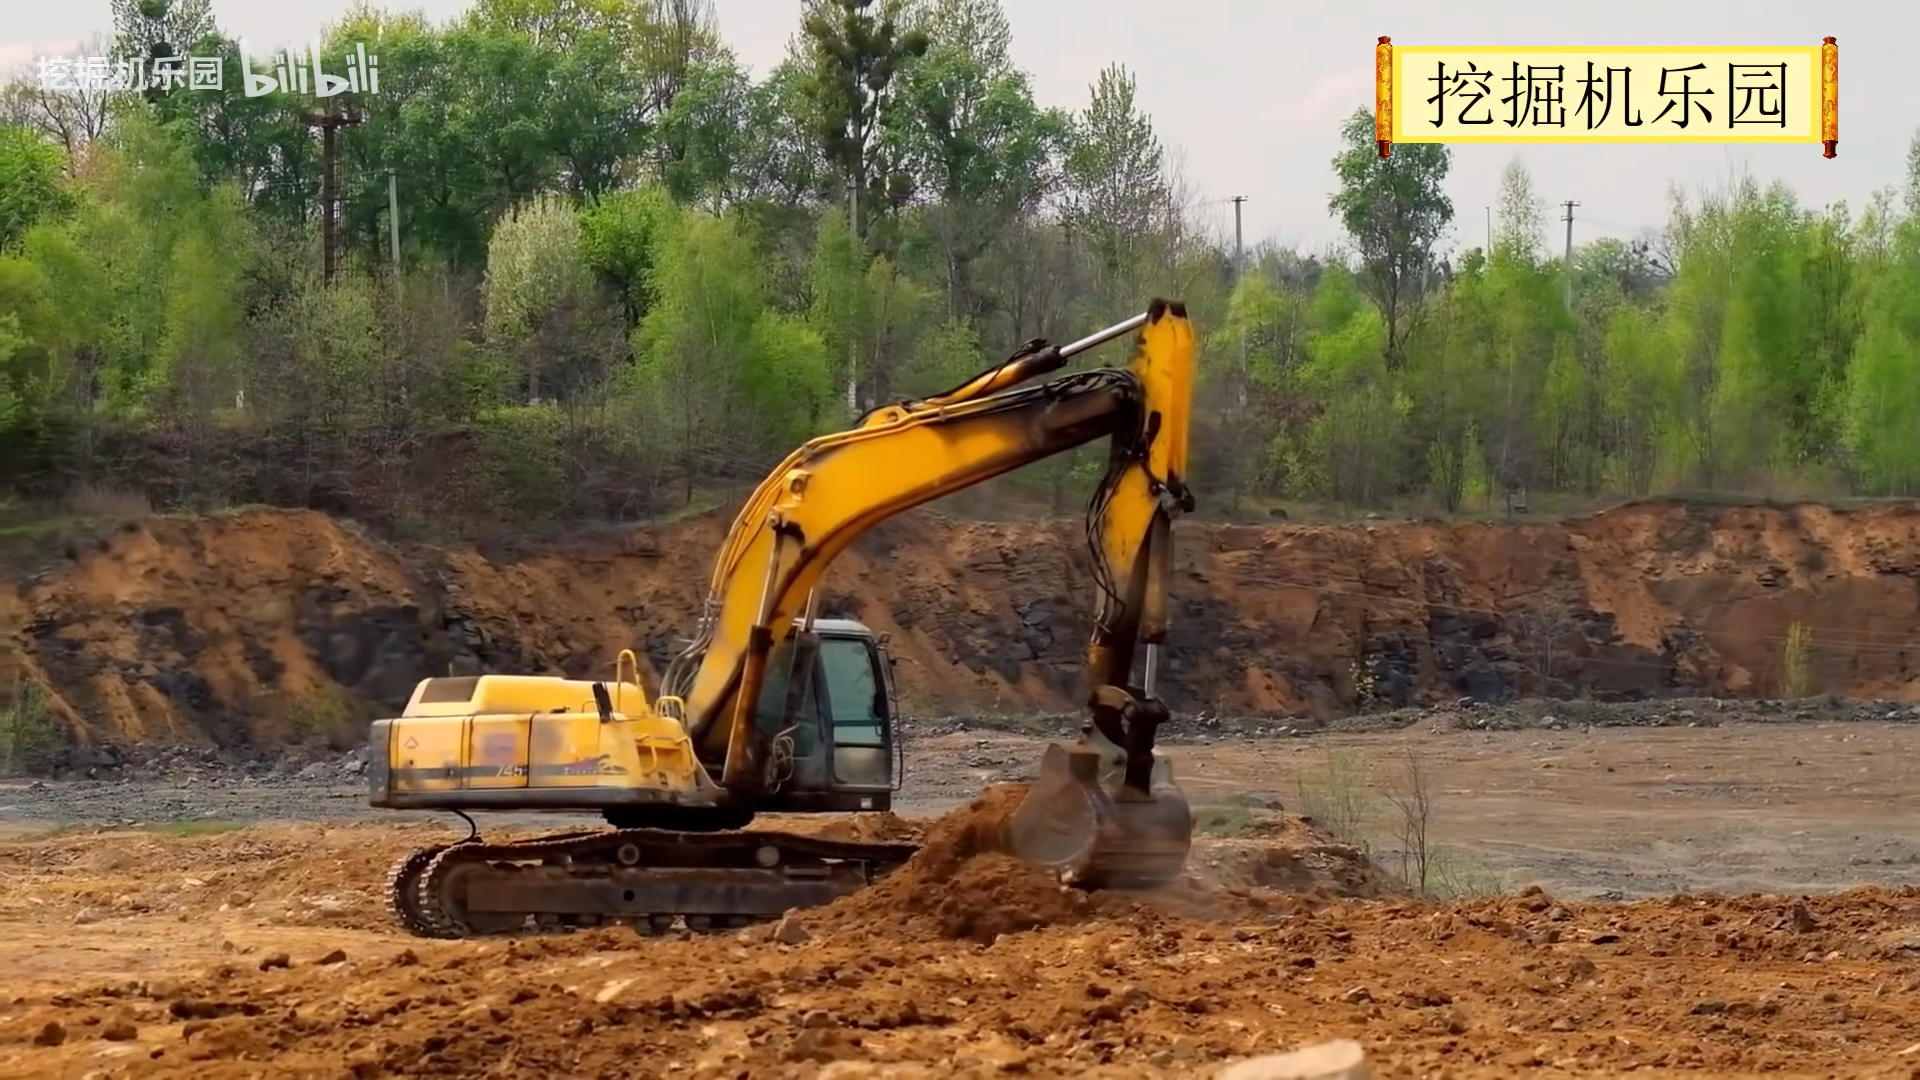excavator: (332, 289, 1247, 982)
